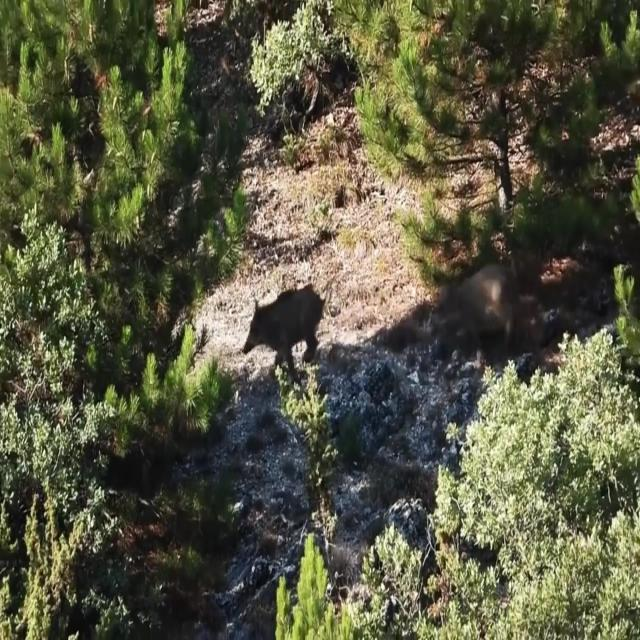pig: (236, 263, 334, 381)
